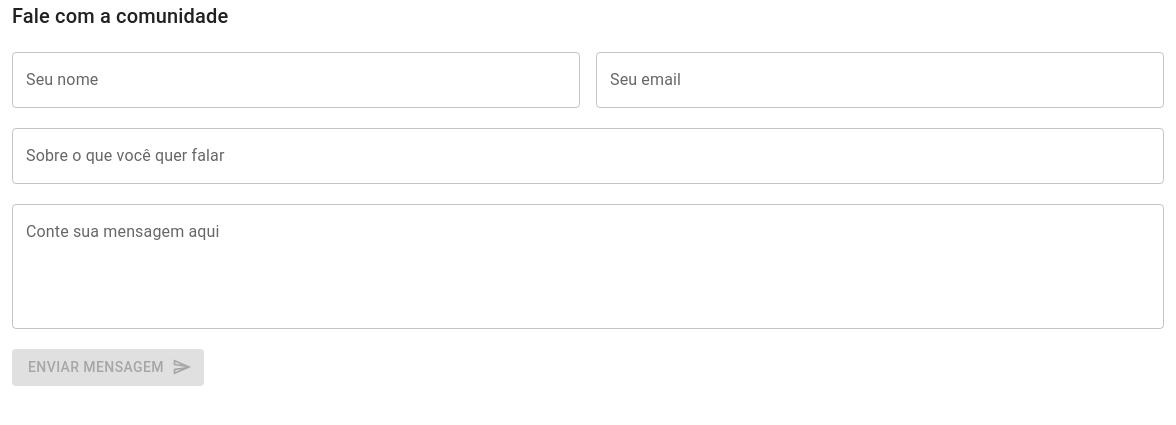
ContactForm › exibe erro de email inválido
The image size is (1176, 425).
Type "Maria" into the field labelled "Seu nome".
click(296, 80); type("Maria")  # box top-left (12, 52), bottom-right (580, 108)
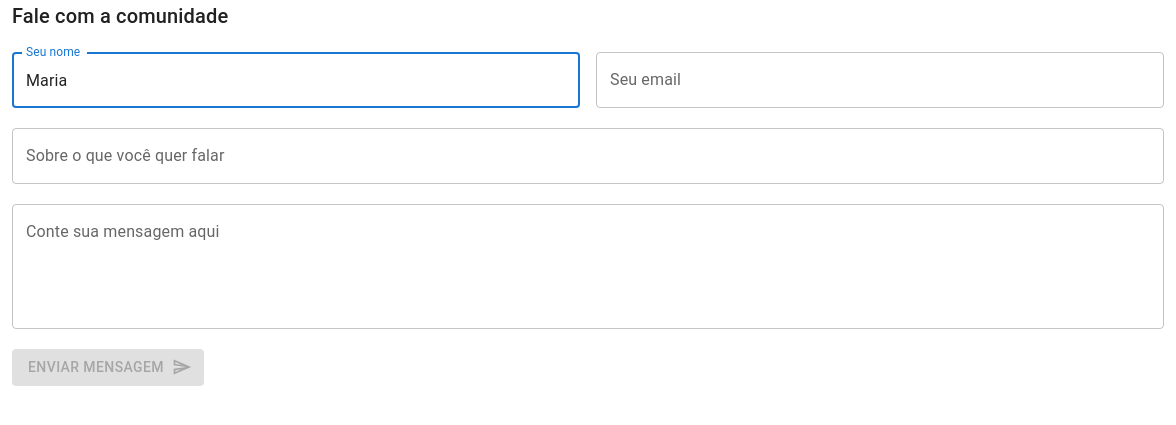
Type "nao-e-email" into the field labelled "Seu email".
click(880, 80); type("nao-e-email")  # box top-left (596, 52), bottom-right (1164, 108)
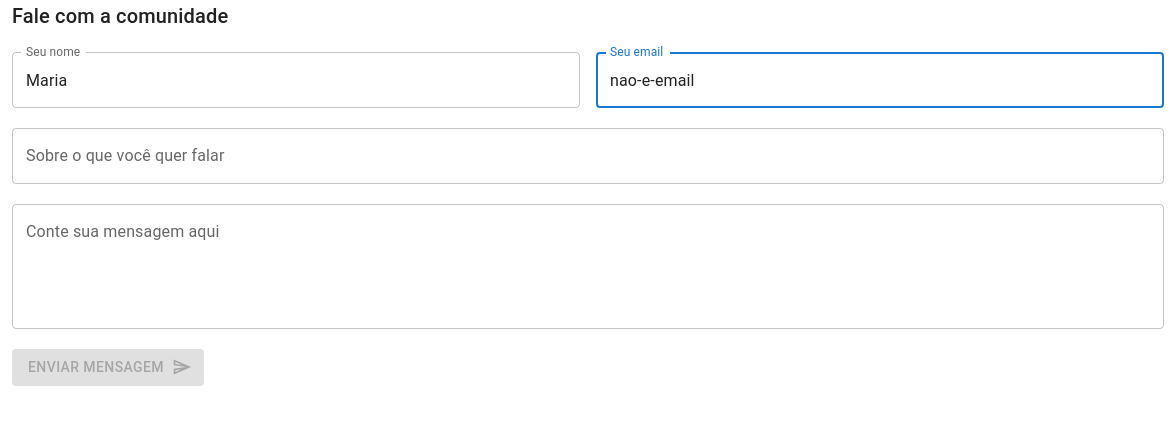
Type "Parceria" into the field labelled "Sobre o que você quer falar".
click(588, 156); type("Parceria")  # box top-left (12, 128), bottom-right (1164, 184)
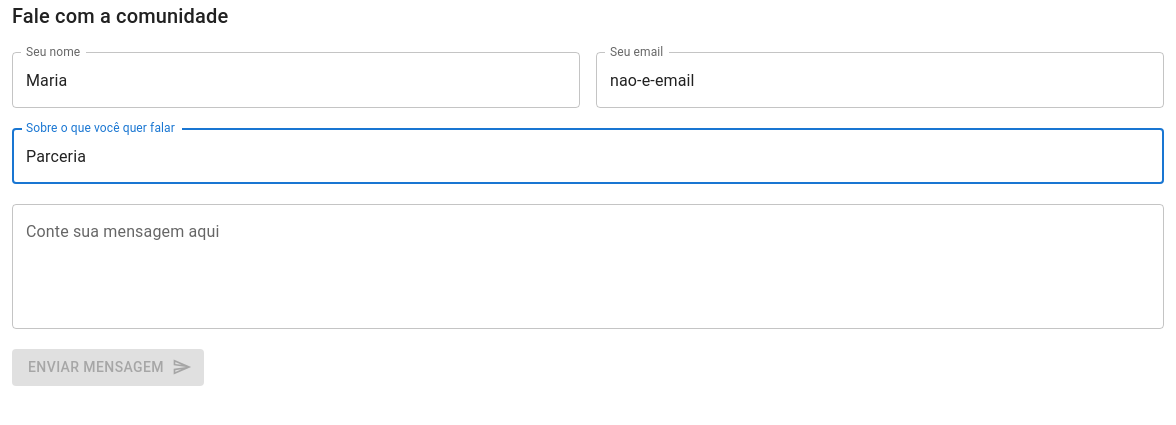
Type "Gostaria de conversar sobre uma parceria." into the text box labelled "Conte sua mensagem aqui".
click(588, 266); type("Gostaria de conversar sobre uma parceria.")  # box top-left (26, 220), bottom-right (1150, 312)
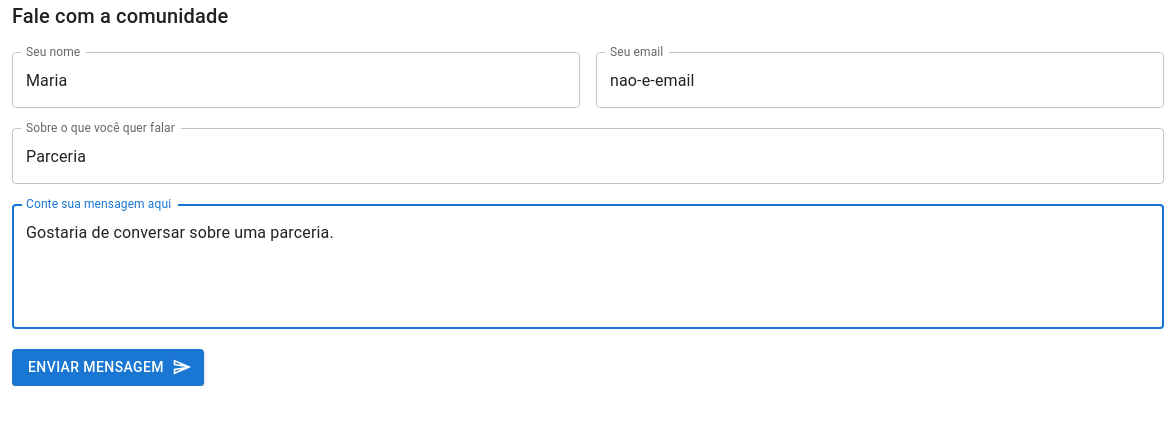
Click the button "Enviar mensagem".
click(108, 367)  # box top-left (12, 349), bottom-right (204, 386)
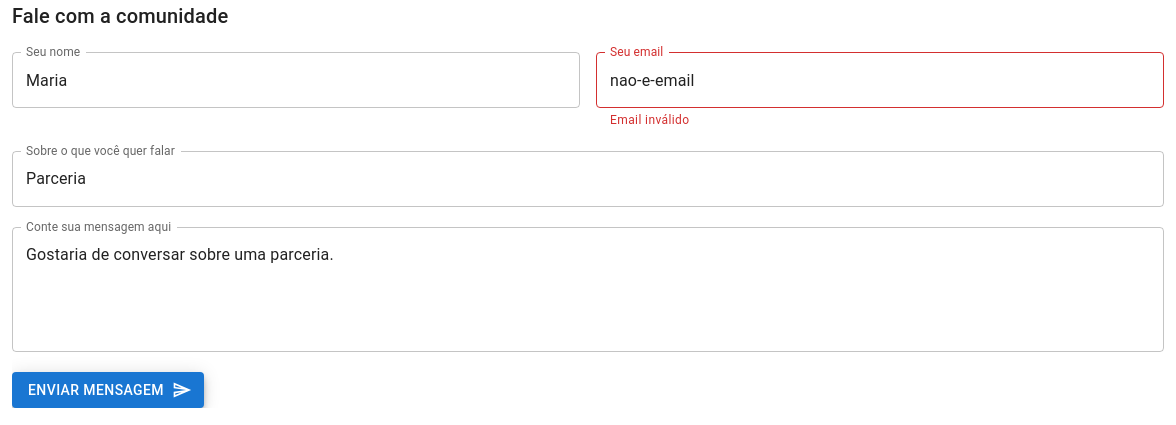
Expected: the text "Email inválido" is shown, top-left (610, 113), bottom-right (690, 127)
